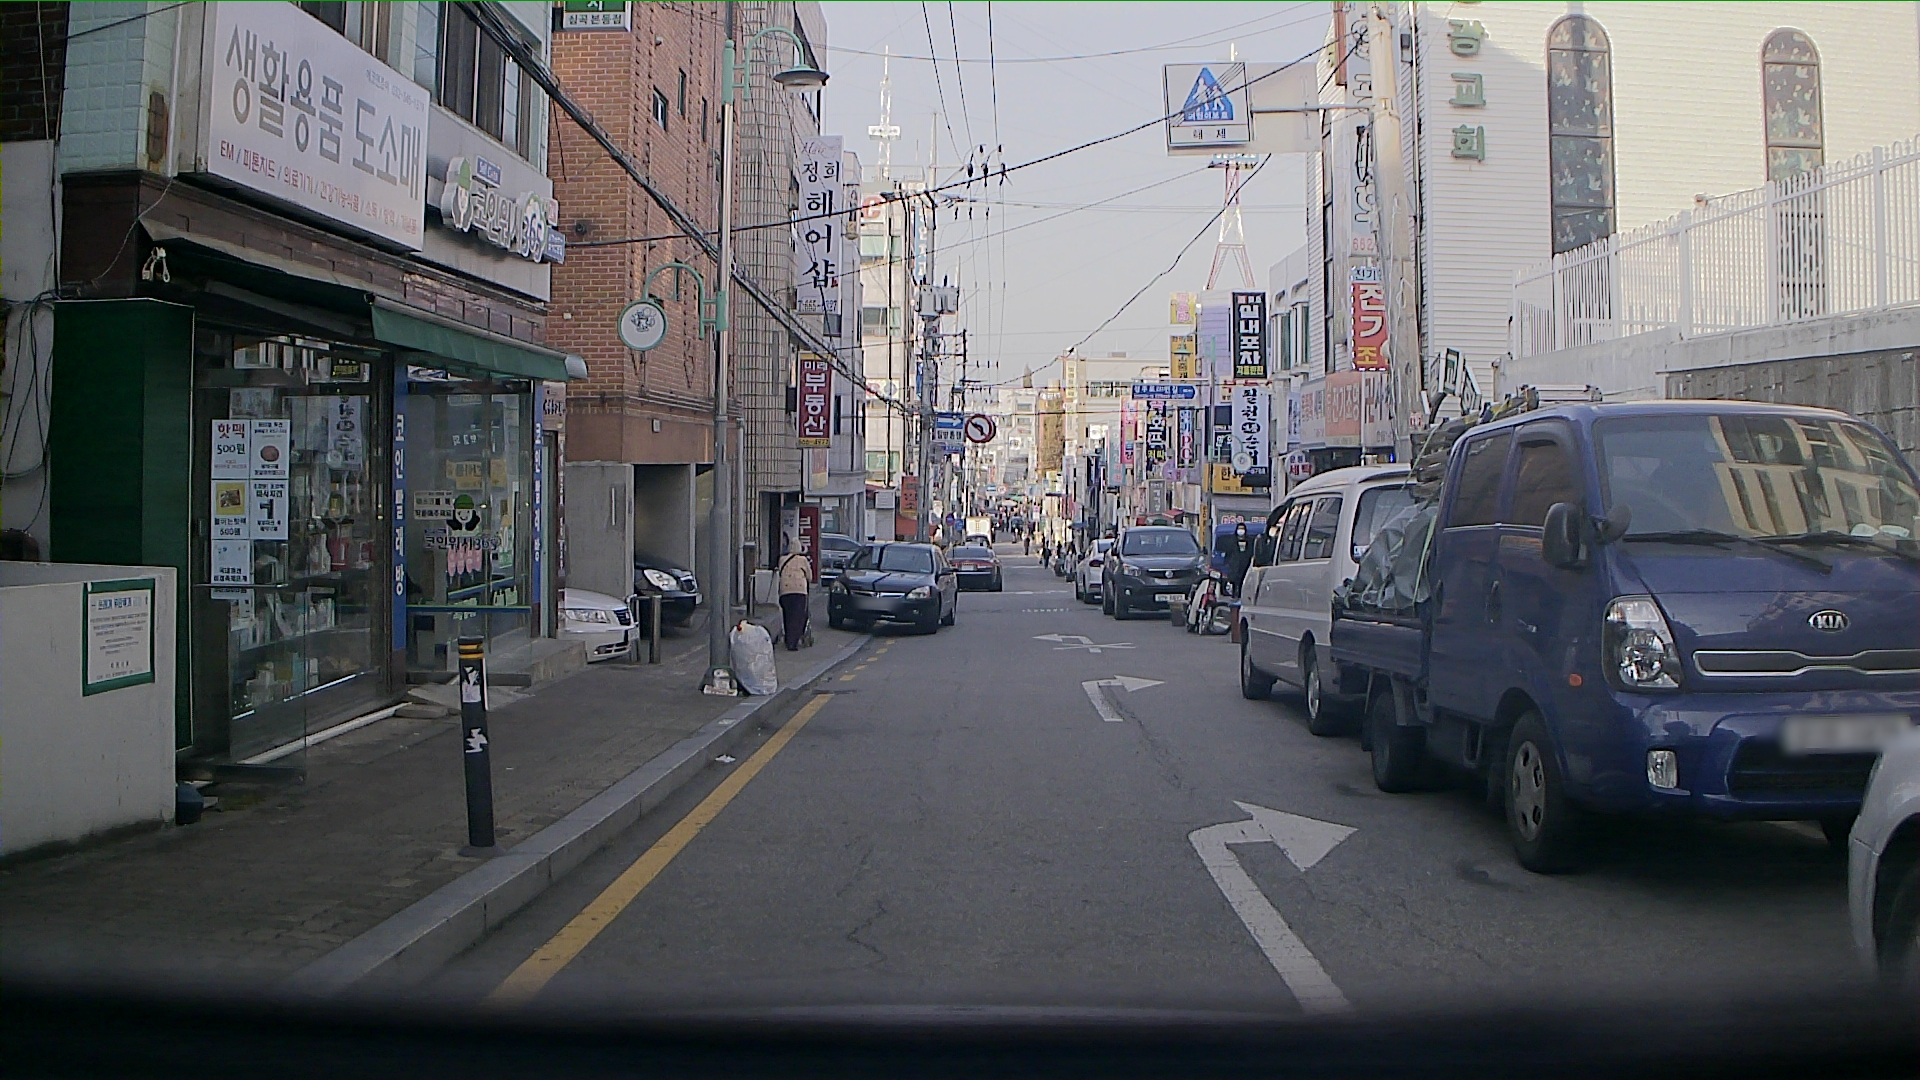trafficSignCircle: (965, 415, 1000, 440)
trafficSignRTG: (1160, 57, 1257, 150)
